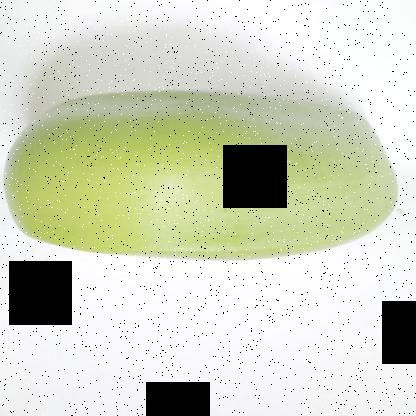freshunripe: (1, 75, 404, 276)
